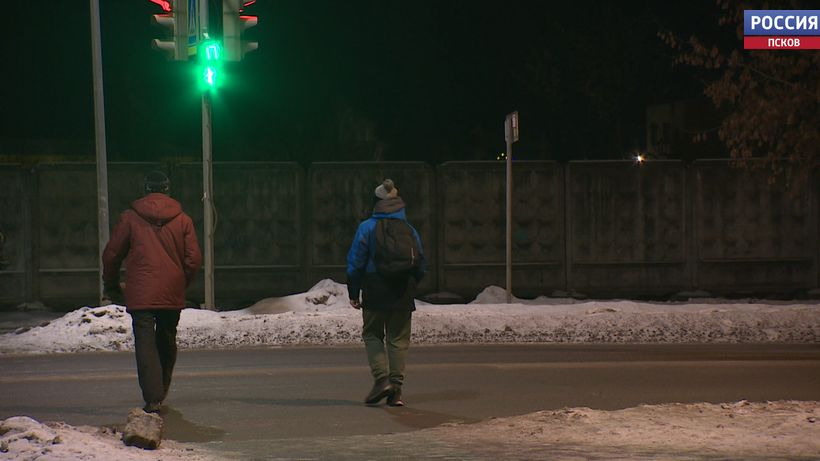tl: (152, 1, 198, 60), (221, 1, 264, 62)
